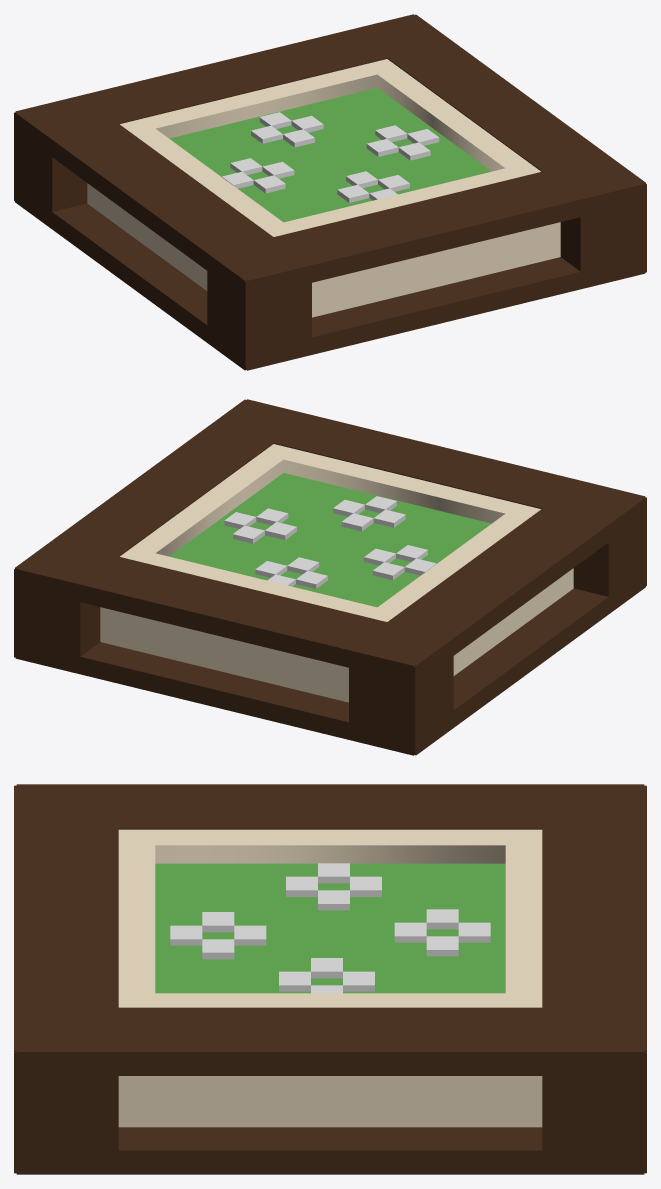
Rendered from detector-green.fbx.
3 views of the same model, one above another, from view 1: azimuth 30°, elevation 25°; view 2: azimuth 150°, elevation 25°; view 3: azimuth 270°, elevation 25° (orthographic). The views are drawn at different scales.
Parts seen in each view (by area): view 1: Cube.002, Cube.001, Cube; view 2: Cube.002, Cube.001, Cube; view 3: Cube.002, Cube.001, Cube.
Part boxes in pixels (x1,y1,x2,y2): Cube.002: (14,14,646,370); Cube.001: (87,59,560,317); Cube: (222,112,439,202); Cube.002: (14,399,646,755); Cube.001: (100,444,573,702); Cube: (224,496,436,588); Cube.002: (14,784,646,1174); Cube.001: (118,829,542,1127); Cube: (170,863,490,993).
Bounding box in the file's own units: 1.21 × 0.2589 × 1.21.
